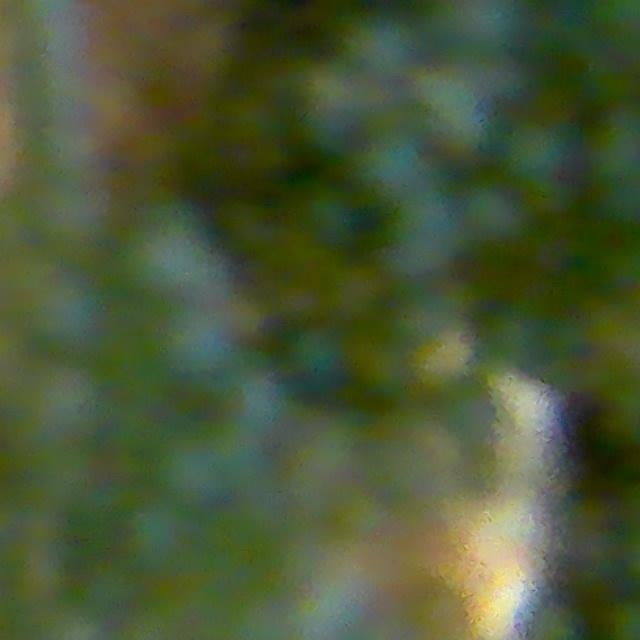SeaGrape: (118, 204, 230, 305), (12, 354, 115, 455), (416, 54, 507, 157), (382, 191, 473, 282), (296, 65, 379, 153), (24, 272, 109, 353), (157, 301, 241, 381), (355, 125, 434, 206), (344, 11, 423, 84), (501, 113, 578, 187), (123, 498, 196, 575), (221, 370, 295, 444), (457, 182, 529, 253), (442, 0, 530, 58), (292, 183, 362, 252), (587, 103, 639, 192), (286, 322, 353, 390), (601, 596, 639, 640)
